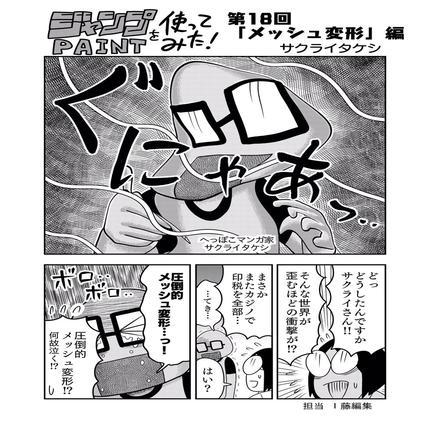bubble: (325, 265, 385, 359), (139, 265, 191, 372), (278, 265, 325, 367), (45, 316, 102, 400), (215, 265, 271, 340), (195, 359, 231, 398)
